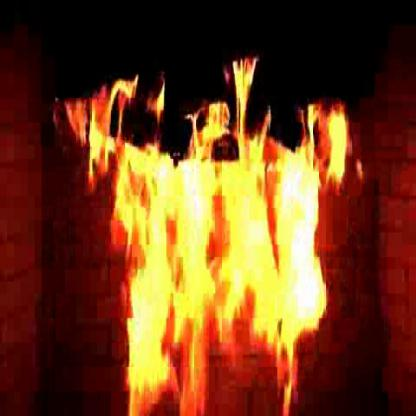Fire: (120, 160, 318, 410)
